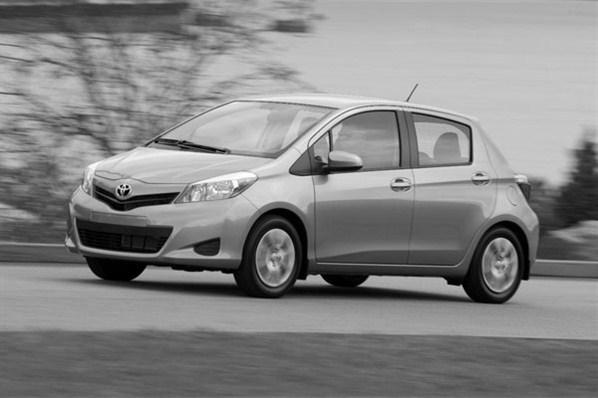car: (67, 85, 541, 307)
